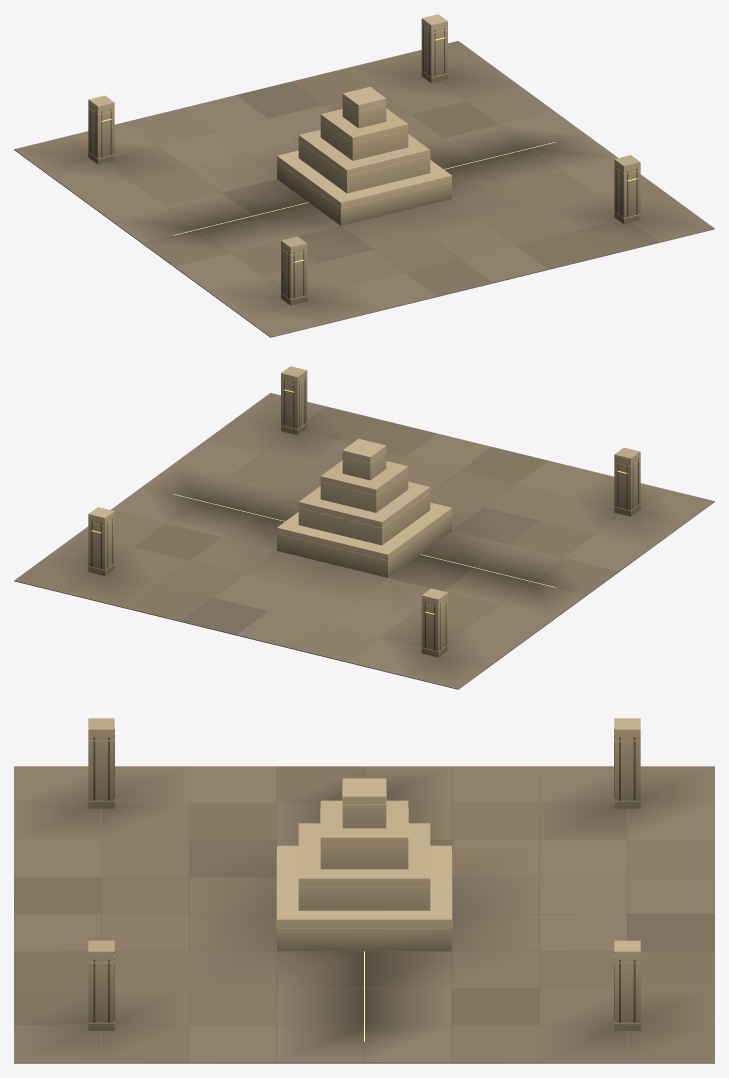
Rendered from 01_world.glb.
3 views of the same model, one above another, from view 1: azimuth 30°, elevation 25°; view 2: azimuth 150°, elevation 25°; view 3: azimuth 270°, elevation 25° (orthographic). The views are drawn at different scales.
Parts seen in each view (by area): view 1: world_01_floor_noshadow_nocol, world_11_floor_noshadow_nocol, world_00_floor_noshadow_nocol, world_10_floor_noshadow_nocol, world_11_body_nocol, world_00_body_nocol, world_10_body_nocol, world_01_body_nocol, world_11_trim_noshadow_nocol; view 2: world_00_floor_noshadow_nocol, world_10_floor_noshadow_nocol, world_01_floor_noshadow_nocol, world_11_floor_noshadow_nocol, world_11_body_nocol, world_01_body_nocol, world_10_body_nocol, world_00_body_nocol, world_11_trim_noshadow_nocol; view 3: world_10_floor_noshadow_nocol, world_11_floor_noshadow_nocol, world_00_floor_noshadow_nocol, world_01_floor_noshadow_nocol, world_11_body_nocol, world_00_body_nocol, world_01_body_nocol, world_10_body_nocol, world_11_trim_noshadow_nocol.
Boxes of the visible parts, bbox=[...] form: world_01_floor_noshadow_nocol: bbox=[142, 202, 492, 337]; world_11_floor_noshadow_nocol: bbox=[397, 134, 714, 283]; world_00_floor_noshadow_nocol: bbox=[14, 95, 308, 243]; world_10_floor_noshadow_nocol: bbox=[236, 41, 586, 169]; world_11_body_nocol: bbox=[277, 86, 640, 225]; world_00_body_nocol: bbox=[88, 95, 114, 164]; world_10_body_nocol: bbox=[421, 14, 447, 83]; world_01_body_nocol: bbox=[281, 236, 307, 305]; world_11_trim_noshadow_nocol: bbox=[276, 99, 640, 218]; world_00_floor_noshadow_nocol: bbox=[236, 554, 586, 689]; world_10_floor_noshadow_nocol: bbox=[14, 486, 331, 635]; world_01_floor_noshadow_nocol: bbox=[420, 447, 714, 595]; world_11_floor_noshadow_nocol: bbox=[142, 393, 492, 521]; world_11_body_nocol: bbox=[277, 366, 451, 577]; world_01_body_nocol: bbox=[614, 447, 640, 516]; world_10_body_nocol: bbox=[88, 507, 114, 575]; world_00_body_nocol: bbox=[421, 588, 447, 657]; world_11_trim_noshadow_nocol: bbox=[276, 378, 452, 560]; world_10_floor_noshadow_nocol: bbox=[364, 914, 714, 1063]; world_11_floor_noshadow_nocol: bbox=[14, 914, 364, 1063]; world_00_floor_noshadow_nocol: bbox=[364, 766, 714, 914]; world_01_floor_noshadow_nocol: bbox=[14, 766, 364, 914]; world_11_body_nocol: bbox=[88, 778, 451, 1030]; world_00_body_nocol: bbox=[614, 718, 640, 808]; world_01_body_nocol: bbox=[88, 718, 114, 808]; world_10_body_nocol: bbox=[614, 940, 640, 1030]; world_11_trim_noshadow_nocol: bbox=[88, 786, 452, 1023].
Size of the model in its own units: 80 by 16.12 by 80.
